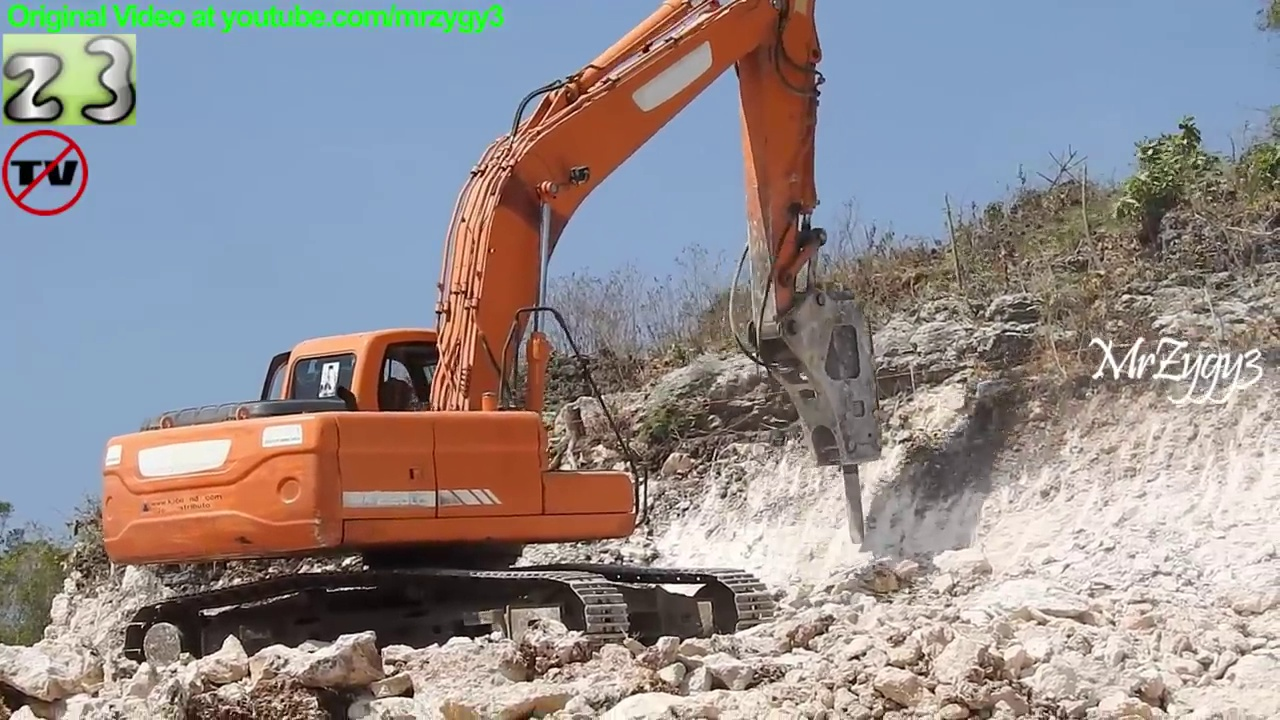excavator: (98, 1, 889, 681)
